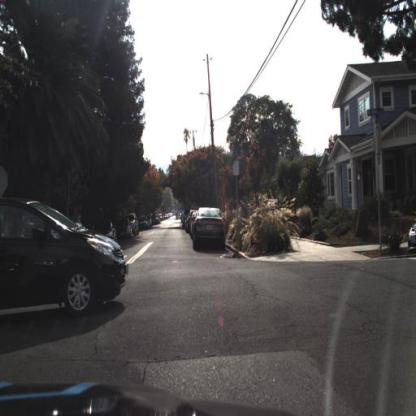car: (1, 201, 129, 314), (407, 217, 416, 262)
